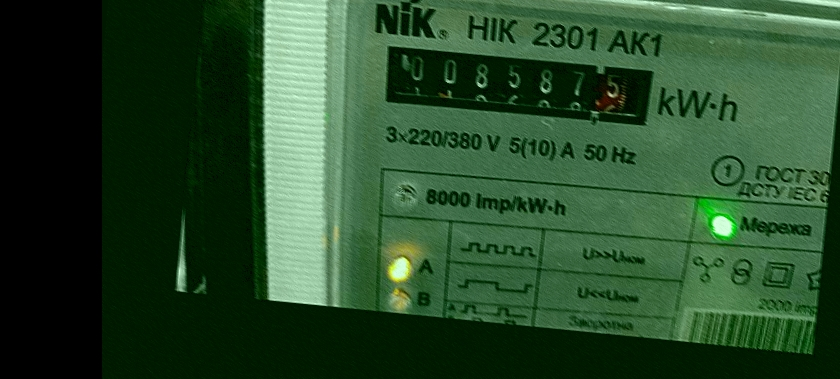0: (408, 52, 427, 82), (442, 56, 461, 86)
5: (605, 71, 625, 102), (505, 61, 525, 91)
7: (569, 67, 589, 98)
8: (537, 65, 557, 96), (473, 60, 492, 90)
screen: (365, 28, 673, 140)
